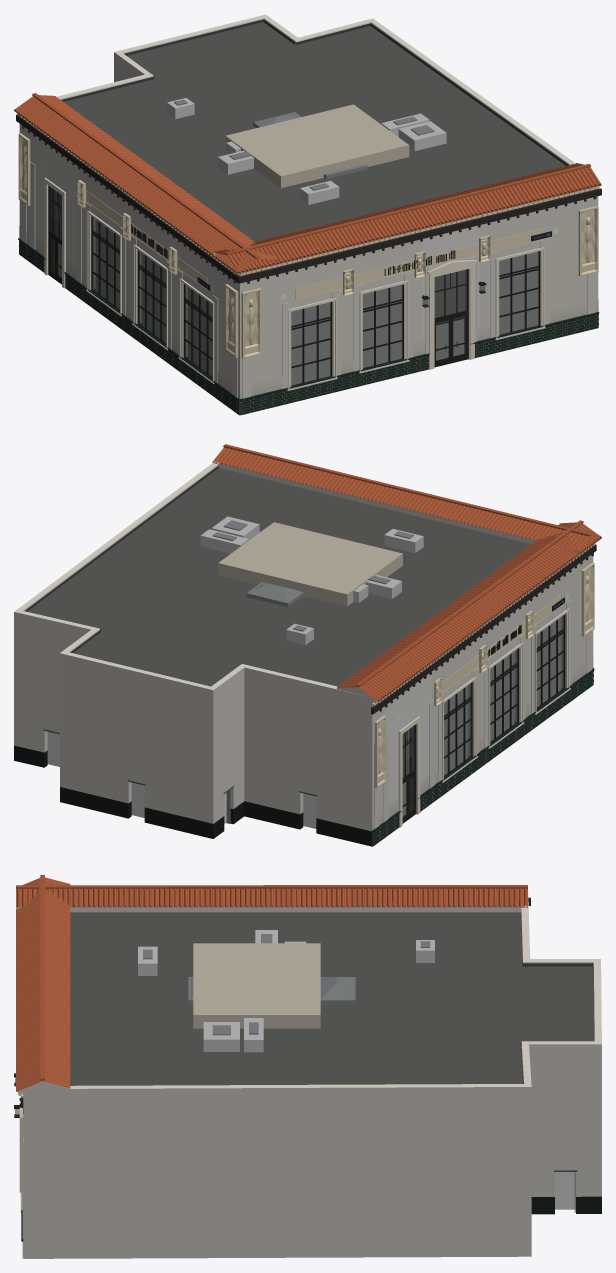
The model's file is exterior.glb.
3 renders of one model, top to bottom at view 1: azimuth 30°, elevation 25°; view 2: azimuth 150°, elevation 25°; view 3: azimuth 270°, elevation 25°, orthographic. The views are drawn at different scales.
Parts seen in each view (by area): view 1: roof, shell, bank-front-1, relief-1, glazing, mission-1, shadow-proxy, mission-2, bank-front-2, relief-2, storefront, rooftop-units (+3 smaller); view 2: shell, roof, mission-2, bank-front-2, mission-1, relief-1, glazing, shadow-proxy, relief-2, rooftop-units, storefront, roof-kit (+1 smaller); view 3: shell, roof, mission-2, mission-1, relief-1, rooftop-units, roof-kit, shadow-proxy, bank-front-1.
Boxes of the visible parts, x1,y1,x2,y2 form: roof: (63,22,565,241); shell: (19,14,598,414); bank-front-1: (237,188,601,415); relief-1: (225,104,595,398); glazing: (50,188,538,385); mission-1: (214,163,601,390); shadow-proxy: (55,191,537,384); mission-2: (14,93,278,383); bank-front-2: (16,114,241,415); relief-2: (21,161,237,397); storefront: (50,192,540,386); rooftop-units: (167,98,446,204); shell: (14,461,593,846); roof: (27,464,534,686); mission-2: (336,520,601,808); bank-front-2: (371,545,595,846); mission-1: (212,444,601,554); relief-1: (218,522,402,606); glazing: (403,615,563,776); shadow-proxy: (47,617,560,828); relief-2: (374,595,591,828); rooftop-units: (200,516,423,644); storefront: (43,614,565,823); roof-kit: (24,463,303,652); shell: (23,891,601,1258); roof: (70,905,594,1085); mission-2: (16,885,527,912); mission-1: (16,875,70,1212); relief-1: (22,943,320,1256); rooftop-units: (138,930,434,1052); roof-kit: (188,906,593,1083); shadow-proxy: (555,1172,575,1209); bank-front-1: (14,1073,23,1258).
Bounding box in the file's own units: 22.86 × 9.37 × 27.7.
